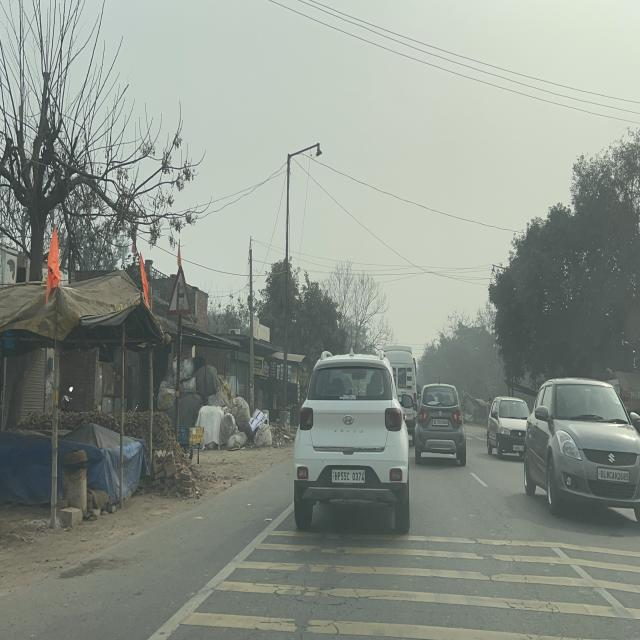SIDE_ROAD_RIGHT: (166, 264, 192, 314)
